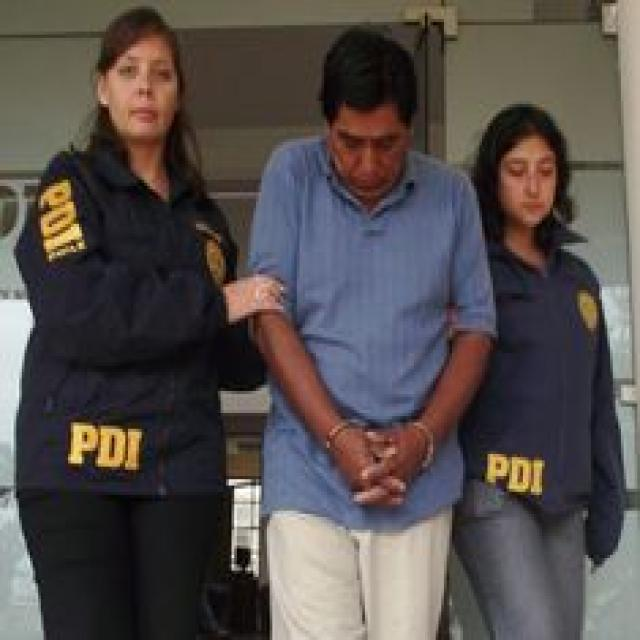9_cabeza_baja: (320, 27, 414, 199)
